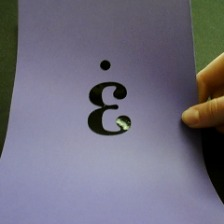violet3: (75, 56, 140, 139)
